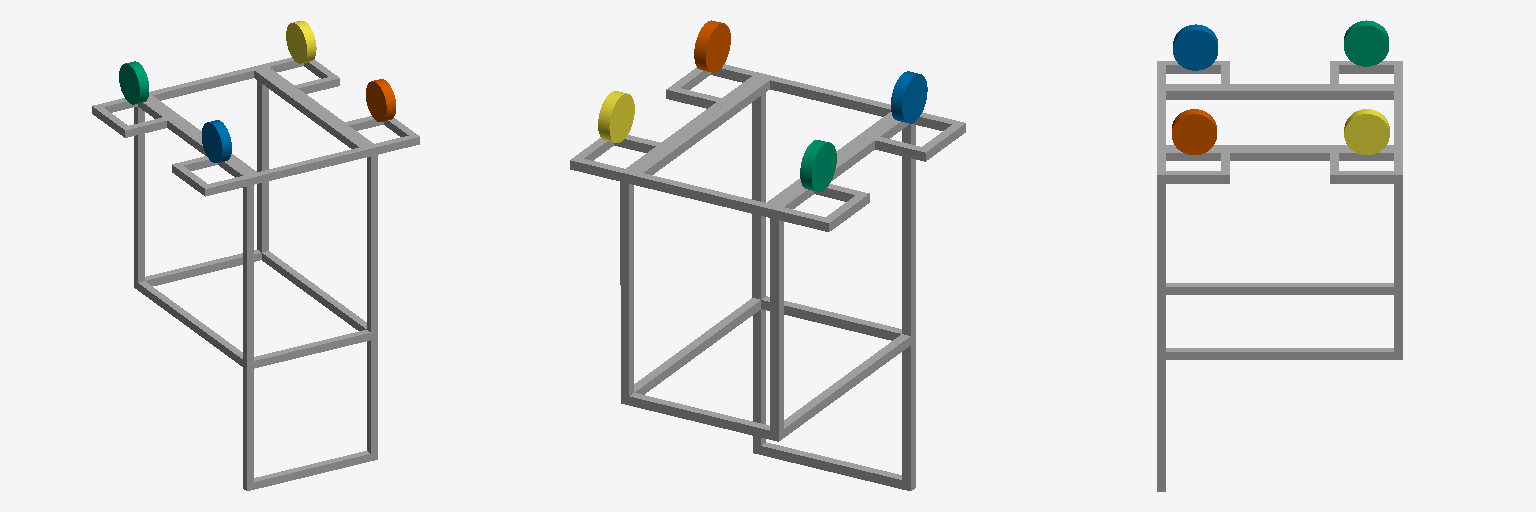
The robot description file, URDF, robot "urdf_base":
<?xml version="1.0" ?>
<robot name="urdf_base">

<link name="base_footprint">
  
</link>

  

<link name="base_link">
  <inertial>
    <origin xyz="0.05 0 0.10" rpy="0 0 0"/>
    <mass value="19"/>
    <inertia ixx="0.01" iyy="0.01" izz="0.01" ixy="0" iyz="0" ixz="0"/>
  </inertial>
  <visual>
    <origin xyz="0 0 -0.15" rpy="0 -1.57 0"/>
    <geometry>
      <mesh filename="package://server_bot/meshes/base_link.stl" scale="0.001 0.001 0.001"/>
    </geometry>
    <material name="silver">
      <color rgba="0.700 0.700 0.700 1.000"/>
    </material>

  </visual>
  <collision>
    <origin xyz="0 0 -0.15" rpy="0 -1.57 0"/>
    <geometry>
      <mesh filename="package://server_bot/meshes/base_link.stl" scale="0.001 0.001 0.001"/>
    </geometry>
  </collision>
</link>

<link name="fr_wheel_link">
  <inertial>
    <origin xyz="0 0 0.10" rpy="0 0 0"/>
    <mass value="0.5"/>
    <inertia ixx="0.01" iyy="0.01" izz="0.01" ixy="0" iyz="0" ixz="0"/>
  </inertial>
  <visual>
    <origin xyz="-0.02 0 -0.1" rpy="0 -1.57 0"/>
    <geometry>
      <mesh filename="package://server_bot/meshes/wheel_1_1.stl" scale="0.001 0.001 0.001"/>
    </geometry>
    

  </visual>
  <collision>
    <origin xyz="-0.02 0 -0.1" rpy="0 -1.57 0"/>
    <geometry>
      <mesh filename="package://server_bot/meshes/wheel_1_1.stl" scale="0.001 0.001 0.001"/>
    </geometry>
  </collision>
</link>

<link name="fl_wheel_link">
  <inertial>
    <origin xyz="0 0 0.10" rpy="0 0 0"/>
    <mass value="0.5"/>
    <inertia ixx="0.01" iyy="0.01" izz="0.01" ixy="0" iyz="0" ixz="0"/>
  </inertial>
  <visual>
    <origin xyz="-0.05 0.001 -0.12" rpy="0 -1.57 0"/>
    <geometry>
      <mesh filename="package://server_bot/meshes/wheel_2_1.stl" scale="0.001 0.001 0.001"/>
    </geometry>
    

  </visual>
  <collision>
    <origin xyz="-0.05 0.001 -0.12" rpy="0 -1.57 0"/>
    <geometry>
      <mesh filename="package://server_bot/meshes/wheel_2_1.stl" scale="0.001 0.001 0.001"/>
    </geometry>
  </collision>
</link>

<link name="bl_wheel_link">
  <inertial>
    <origin xyz="0 0 0.10" rpy="0 0 0"/>
    <mass value="0.5"/>
    <inertia ixx="0.01" iyy="0.01" izz="0.01" ixy="0" iyz="0" ixz="0"/>
  </inertial>
  <visual>
    <origin xyz="-0.01 0.005 -0.105" rpy="0 -1.57 0"/>
    <geometry>
      <mesh filename="package://server_bot/meshes/wheel_3_1.stl" scale="0.001 0.001 0.001"/>
    </geometry>
    

  </visual>
  <collision>
    <origin xyz="-0.01 0.005 -0.105" rpy="0 -1.57 0"/>
    <geometry>
      <mesh filename="package://server_bot/meshes/wheel_3_1.stl" scale="0.001 0.001 0.001"/>
    </geometry>
  </collision>
</link>

<link name="br_wheel_link">
  <inertial>
    <origin xyz="0 0 0.10" rpy="0 0 0"/>
    <mass value="0.5"/>
    <inertia ixx="0.01" iyy="0.01" izz="0.01" ixy="0" iyz="0" ixz="0"/>
  </inertial>
  <visual>
    <origin xyz="-0.05 0.002 -0.12" rpy="0 -1.57 0"/>
    <geometry>
      <mesh filename="package://server_bot/meshes/wheel_4_1.stl" scale="0.001 0.001 0.001"/>
    </geometry>
    

  </visual>
  <collision>
    <origin xyz="-0.05 0.002 -0.12" rpy="0 -1.57 0"/>
    <geometry>
      <mesh filename="package://server_bot/meshes/wheel_4_1.stl" scale="0.001 0.001 0.001"/>
    </geometry>
  </collision>
</link>

<joint name="footprint_joint" type="fixed">
  <origin xyz="0 0 0" rpy="0.0 0.0 0.0"/>
  <parent link="base_footprint"/>
  <child link="base_link"/>
  <axis xyz="0.0 0.0 0.0"/>
</joint>

<joint name="fl_joint" type="continuous">
  <origin xyz="0.04 0 0.01" rpy="0.0 0.0 0.0"/>
  <parent link="base_link"/>
  <child link="fl_wheel_link"/>
  <axis xyz="0.0 0.0 1.0"/>
</joint>

<joint name="fr_joint" type="continuous">
  <origin xyz="0.04 0 -0.01" rpy="0.0 0.0 0.0"/>
  <parent link="base_link"/>
  <child link="fr_wheel_link"/>
  <axis xyz="0.0 0.0 1.0"/>
</joint>

<joint name="bl_joint" type="continuous">
  <origin xyz="0.04 0 -0.01" rpy="0.0 0.0 0.0"/>
  <parent link="base_link"/>
  <child link="bl_wheel_link"/>
  <axis xyz="0.0 0.0 1.0"/>
</joint>

<joint name="br_joint" type="continuous">
  <origin xyz="0.04 0 0.01" rpy="0.0 0.0 0.0"/>
  <parent link="base_link"/>
  <child link="br_wheel_link"/>
  <axis xyz="0.0 0.0 1.0"/>
</joint>


<gazebo>
  <plugin name='skid_steer_drive' filename='libgazebo_ros_diff_drive.so'>

        <ros>
          <namespace>/demo</namespace>
          <argument>cmd_vel:=cmd_demo</argument>
          <argument>odom:=odom_demo</argument>
        </ros>

        <!-- Number of wheel pairs -->
        <num_wheel_pairs>2</num_wheel_pairs>
        
        <!-- wheels0 -->
        <left_joint>fl_joint</left_joint>
        <right_joint>fr_joint</right_joint>

        <!-- wheels1-->
        <left_joint>bl_joint</left_joint>
        <right_joint>br_joint</right_joint>

        <!-- kinematics -->
        <wheel_separation>0.5</wheel_separation>
        <wheel_separation>0.5</wheel_separation>

        <wheel_diameter>0.1</wheel_diameter>
        <wheel_diameter>0.1</wheel_diameter>

        <!-- limits -->
        <max_wheel_torque>20</max_wheel_torque>
        <max_wheel_acceleration>1.0</max_wheel_acceleration>

        <!-- output -->
        <publish_odom>true</publish_odom>
        <publish_odom_tf>true</publish_odom_tf>
        <publish_wheel_tf>true</publish_wheel_tf>

        <odometry_frame>odom_demo</odometry_frame>
        <robot_base_frame>base_link</robot_base_frame>

  </plugin>
</gazebo>
<!-- <gazebo>
  <plugin name="control" filename="libgazebo_ros_control.so"/>
</gazebo> -->
<gazebo reference="base_link">
  <material name="silver">
    <color rgba="0.700 0.700 0.700 1.000"/>
  </material>

  <mu1>0.2</mu1>
  <mu2>0.2</mu2>
  <self_collide>true</self_collide>
  <gravity>true</gravity>
</gazebo>

</robot>

--- Render facts (derived) ---
The picture shows the robot from 3 angles, left to right: view 1: azimuth 30°, elevation 25°; view 2: azimuth 150°, elevation 25°; view 3: azimuth 270°, elevation 25°; orthographic projection.
Robot: urdf_base — 6 links, 5 joints (4 continuous, 1 fixed); root link base_footprint; default pose: every joint at zero.
Visible links, largest first — view 1: base_link, fl_wheel_link, bl_wheel_link, br_wheel_link, fr_wheel_link; view 2: base_link, br_wheel_link, fr_wheel_link, bl_wheel_link, fl_wheel_link; view 3: base_link, fl_wheel_link, bl_wheel_link, br_wheel_link, fr_wheel_link.
Boxes of the visible links, <box> form: base_link: <box>92,57,419,490</box>; fl_wheel_link: <box>286,21,316,63</box>; bl_wheel_link: <box>202,120,231,162</box>; br_wheel_link: <box>366,79,395,121</box>; fr_wheel_link: <box>119,61,148,104</box>; base_link: <box>570,64,965,490</box>; br_wheel_link: <box>694,20,730,72</box>; fr_wheel_link: <box>800,140,836,191</box>; bl_wheel_link: <box>891,71,927,123</box>; fl_wheel_link: <box>598,91,634,142</box>; base_link: <box>1157,61,1402,491</box>; fl_wheel_link: <box>1344,109,1389,154</box>; bl_wheel_link: <box>1173,24,1217,70</box>; br_wheel_link: <box>1172,109,1216,154</box>; fr_wheel_link: <box>1344,20,1388,66</box>.
Size in the robot's own frame: 0.5902 by 0.54 by 0.9463 metres.
Meshes: 5 distinct files referenced, 5 mesh visuals loaded (5 binary STL).
